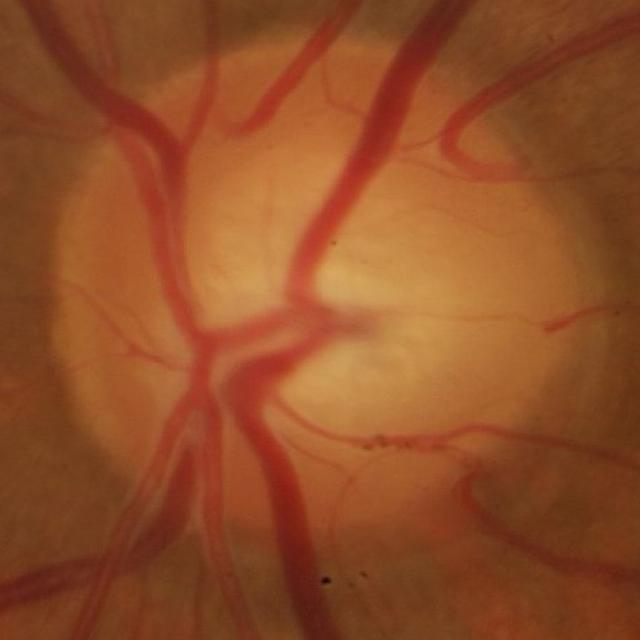OC: (175, 227, 392, 421)
OD: (54, 37, 603, 531)
